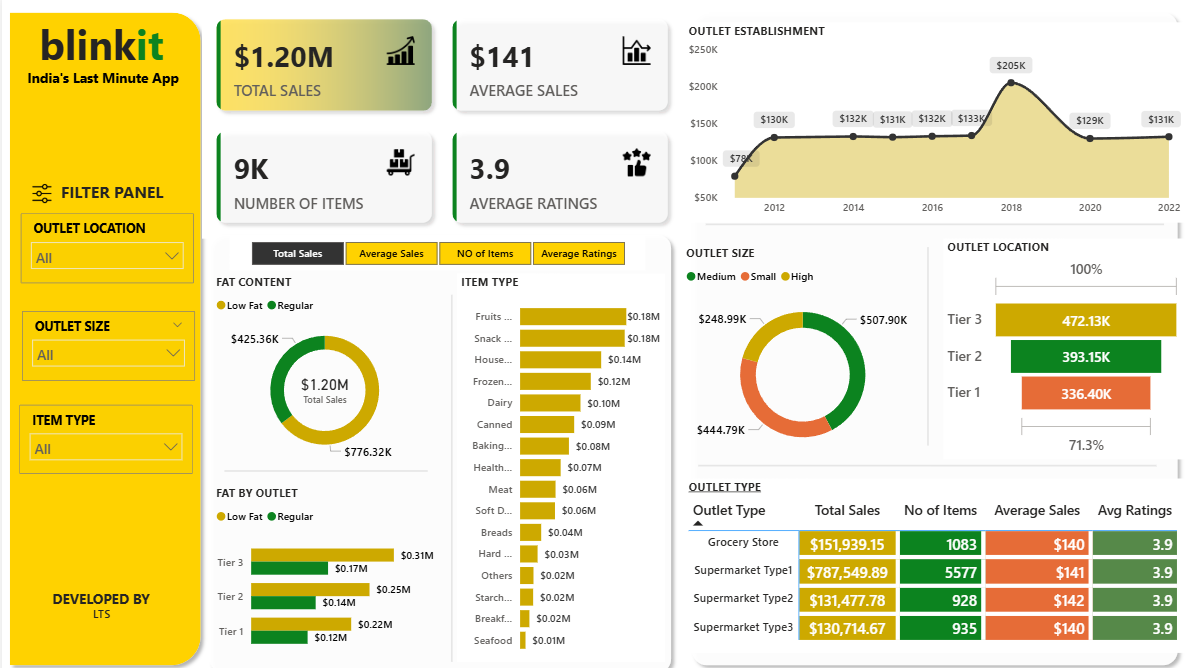

This screenshot's page, from the dashboard's own definition file:
{"tool":"powerbi","page":{"name":"Page 1","canvas":[1400,800],"ordinal":0},"visuals":[{"type":"shape","box":[0,10.7,241.3,781.5],"z":0},{"type":"textbox","box":[14.2,17.4,203.6,97.8],"z":1000},{"type":"textbox","box":[23.7,78.9,189.4,36.3],"z":2000},{"type":"cardVisual","fields":{"Data":["BlinkIT Grocery Data.Total Sales","BlinkIT Grocery Data.Average Sales","BlinkIT Grocery Data.NO of Items","BlinkIT Grocery Data.Average Ratings"]},"box":[234.6,10.7,563,273.5],"z":3000},{"type":"shape","box":[234.6,270.5,557.6,529.5],"z":4000},{"type":"donutChart","title":"FAT CONTENT","fields":{"Y":["BlinkIT Grocery Data.Total Sales"],"Category":["BlinkIT Grocery Data.Item Fat Content"]},"box":[245.3,324.4,264.1,227.9],"z":5000},{"type":"slicer","fields":{"Values":["Metrics.Metrics"]},"box":[265.4,280.2,486.6,40.2],"z":6000},{"type":"cardVisual","fields":{"Data":["BlinkIT Grocery Data.Total Sales"]},"box":[321.7,427.6,112.6,67],"z":7000},{"type":"clusteredBarChart","title":"FAT BY OUTLET","fields":{"Y":["BlinkIT Grocery Data.Total Sales"],"Series":["BlinkIT Grocery Data.Item Fat Content"],"Category":["BlinkIT Grocery Data.Outlet Location Type"]},"box":[245.3,571,265.4,209.1],"z":8000},{"type":"shape","box":[260.6,542.5,237.7,26.2],"z":9000},{"type":"shape","box":[514.6,349.1,22.9,429.4],"z":10000},{"type":"clusteredBarChart","title":"ITEM TYPE","fields":{"Y":["BlinkIT Grocery Data.Total Sales"],"Category":["BlinkIT Grocery Data.Item Type"]},"box":[531.8,325.1,243,454.5],"z":11000},{"type":"shape","box":[797.6,10.7,585.8,781.5],"z":12000},{"type":"lineChart","title":"OUTLET ESTABLISHMENT","fields":{"Category":["BlinkIT Grocery Data.Outlet Establishment Year"],"Y":["BlinkIT Grocery Data.Total Sales"]},"box":[797.6,30.8,585.8,234.6],"z":13000},{"type":"shape","box":[823.1,254.7,536.2,25.5],"z":14000},{"type":"donutChart","title":"OUTLET SIZE","fields":{"Category":["BlinkIT Grocery Data.Outlet Size"],"Y":["BlinkIT Grocery Data.Total Sales"]},"box":[794.9,290.9,282.8,258.7],"z":15000},{"type":"funnel","title":"OUTLET LOCATION","fields":{"Y":["Sum(BlinkIT Grocery Data.Sales)"],"Category":["BlinkIT Grocery Data.Outlet Location Type"]},"box":[1100.5,284.2,282.8,258.7],"z":16000},{"type":"shape","box":[1071.1,293.6,22.8,231.9],"z":17000},{"type":"shape","box":[815,536.2,536.2,25.5],"z":18000},{"type":"pivotTable","title":"OUTLET TYPE","fields":{"Rows":["BlinkIT Grocery Data.Outlet Type"],"Values":["BlinkIT Grocery Data.Total Sales","BlinkIT Grocery Data.NO of Items","BlinkIT Grocery Data.Average Sales","BlinkIT Grocery Data.Average Ratings"]},"box":[797.6,564.3,585.8,203.8],"z":19000},{"type":"slicer","fields":{"Values":["BlinkIT Grocery Data.Outlet Location Type"]},"box":[21.4,254.7,202.4,81.8],"z":20000},{"type":"slicer","fields":{"Values":["BlinkIT Grocery Data.Outlet Size"]},"box":[22.8,368.6,202.4,81.8],"z":21000},{"type":"slicer","fields":{"Values":["BlinkIT Grocery Data.Item Type"]},"box":[20.1,478.6,202.4,80.4],"z":22000},{"type":"textbox","box":[59,211.8,140.8,41.6],"z":23000},{"type":"image","box":[30.8,213.1,32.2,34.9],"z":24000},{"type":"textbox","box":[45.6,689,140.8,32.2],"z":25000},{"type":"textbox","box":[81.8,705.1,69.7,32.2],"z":26000}]}

Visuals, with their boxes in screenshot pixels (x1, y1, x2, y2), scaled from the page's 1400x800 canvas onto the 1192x668 screenshot:
shape: x1=0, y1=9, x2=205, y2=661
textbox: x1=12, y1=15, x2=185, y2=96
textbox: x1=20, y1=66, x2=181, y2=96
cardVisual - BlinkIT Grocery Data.Total Sales x BlinkIT Grocery Data.Average Sales: x1=200, y1=9, x2=679, y2=237
shape: x1=200, y1=226, x2=675, y2=667
"FAT CONTENT" donutChart: x1=209, y1=271, x2=434, y2=461
slicer - Metrics.Metrics: x1=226, y1=234, x2=640, y2=268
cardVisual - BlinkIT Grocery Data.Total Sales: x1=274, y1=357, x2=370, y2=413
"FAT BY OUTLET" clusteredBarChart: x1=209, y1=477, x2=435, y2=651
shape: x1=222, y1=453, x2=424, y2=475
shape: x1=438, y1=291, x2=458, y2=650
"ITEM TYPE" clusteredBarChart: x1=453, y1=271, x2=660, y2=651
shape: x1=679, y1=9, x2=1178, y2=661
"OUTLET ESTABLISHMENT" lineChart: x1=679, y1=26, x2=1178, y2=222
shape: x1=701, y1=213, x2=1157, y2=234
"OUTLET SIZE" donutChart: x1=677, y1=243, x2=918, y2=459
"OUTLET LOCATION" funnel: x1=937, y1=237, x2=1178, y2=453
shape: x1=912, y1=245, x2=931, y2=439
shape: x1=694, y1=448, x2=1150, y2=469
"OUTLET TYPE" pivotTable: x1=679, y1=471, x2=1178, y2=641
slicer - BlinkIT Grocery Data.Outlet Location Type: x1=18, y1=213, x2=191, y2=281
slicer - BlinkIT Grocery Data.Outlet Size: x1=19, y1=308, x2=192, y2=376
slicer - BlinkIT Grocery Data.Item Type: x1=17, y1=400, x2=189, y2=467
textbox: x1=50, y1=177, x2=170, y2=212
image: x1=26, y1=178, x2=54, y2=207
textbox: x1=39, y1=575, x2=159, y2=602
textbox: x1=70, y1=589, x2=129, y2=616
